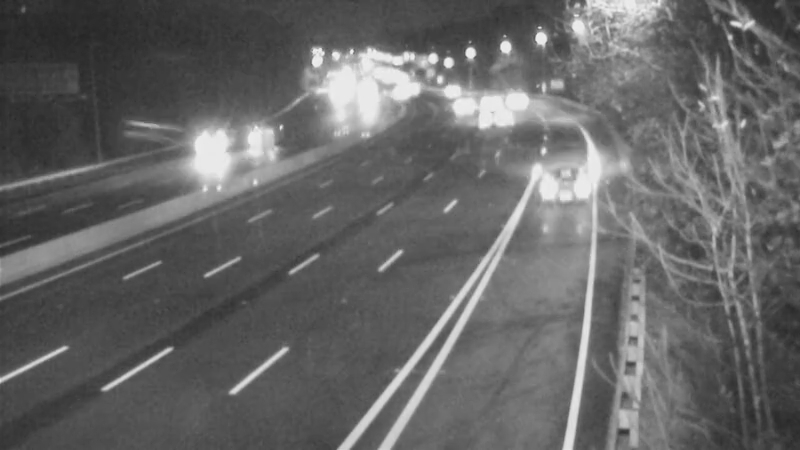vehicle: (529, 151, 609, 231), (426, 68, 476, 118), (491, 68, 541, 118), (463, 74, 513, 124), (430, 75, 480, 125), (469, 96, 519, 146), (179, 121, 229, 171), (227, 116, 277, 166)
